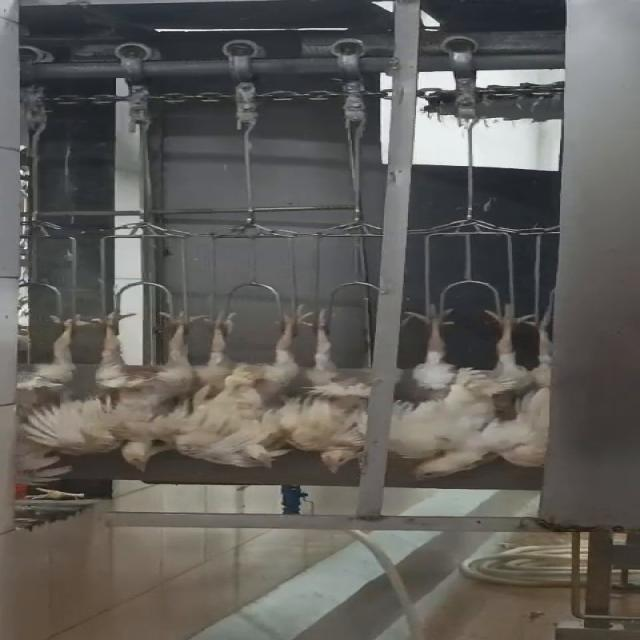chicken: (384, 298, 525, 484), (183, 292, 328, 468), (73, 297, 203, 472), (276, 303, 394, 474), (0, 310, 107, 478), (500, 298, 562, 468)
